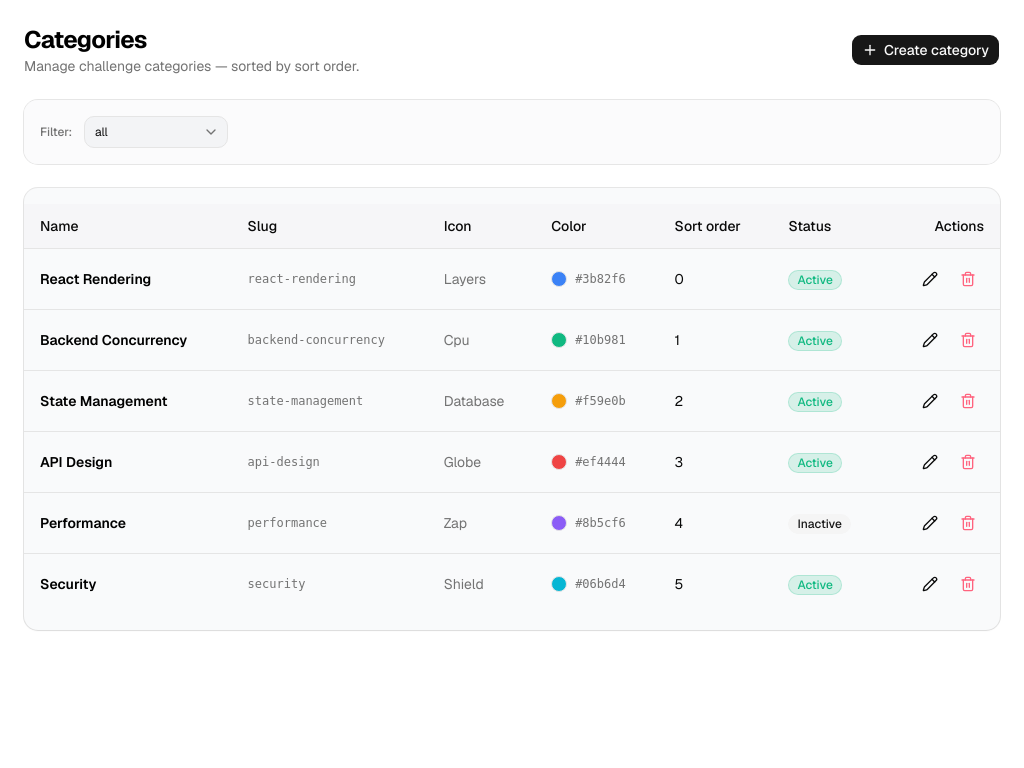
Test: CategoryManagement › create dialog validates hex color inline
Click the button "Create category" at (925, 50), box [851,34,1000,66]
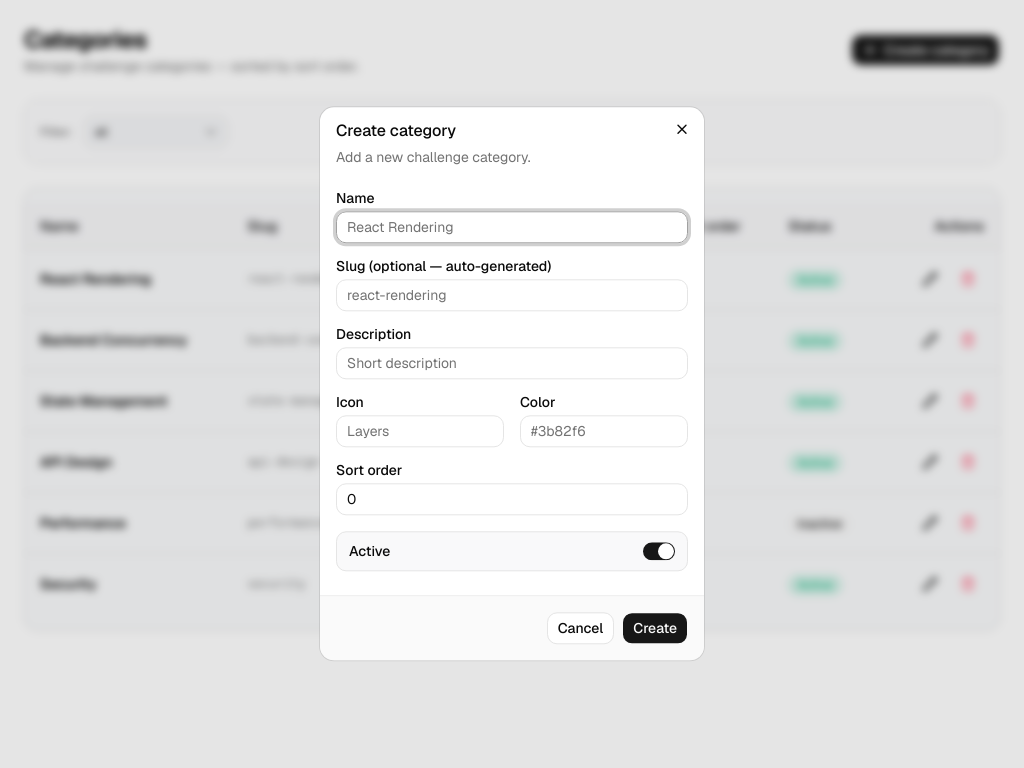
Result: the field labelled "Name" is shown
Type "Valid Name" into the field labelled "Name" at (512, 227), box [336,211,688,243]
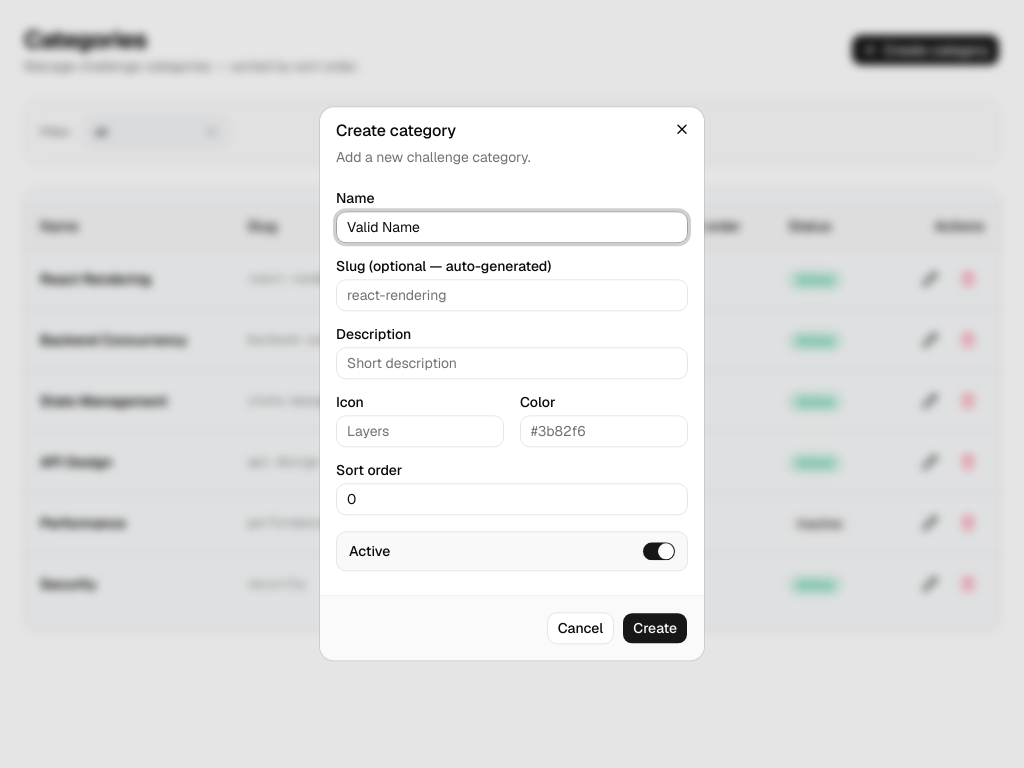
Type "not-a-color" into the field with id "create-color" at (604, 431), box [520,415,688,447]
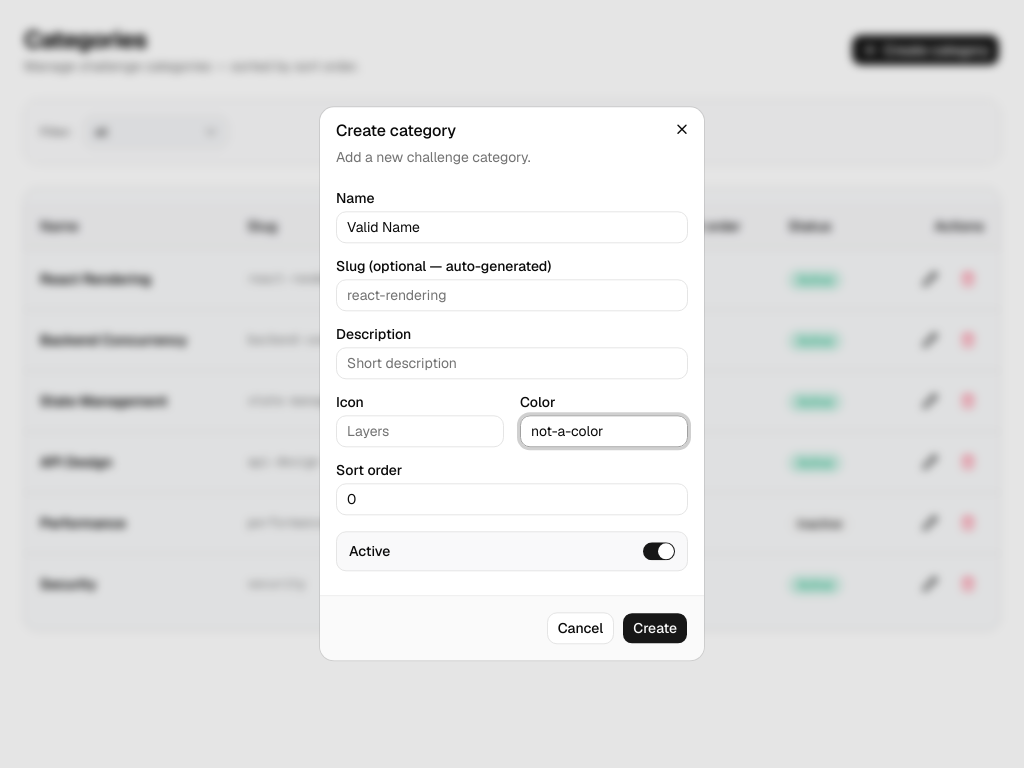
Click the button "Create" at (655, 629), box [622,613,688,645]
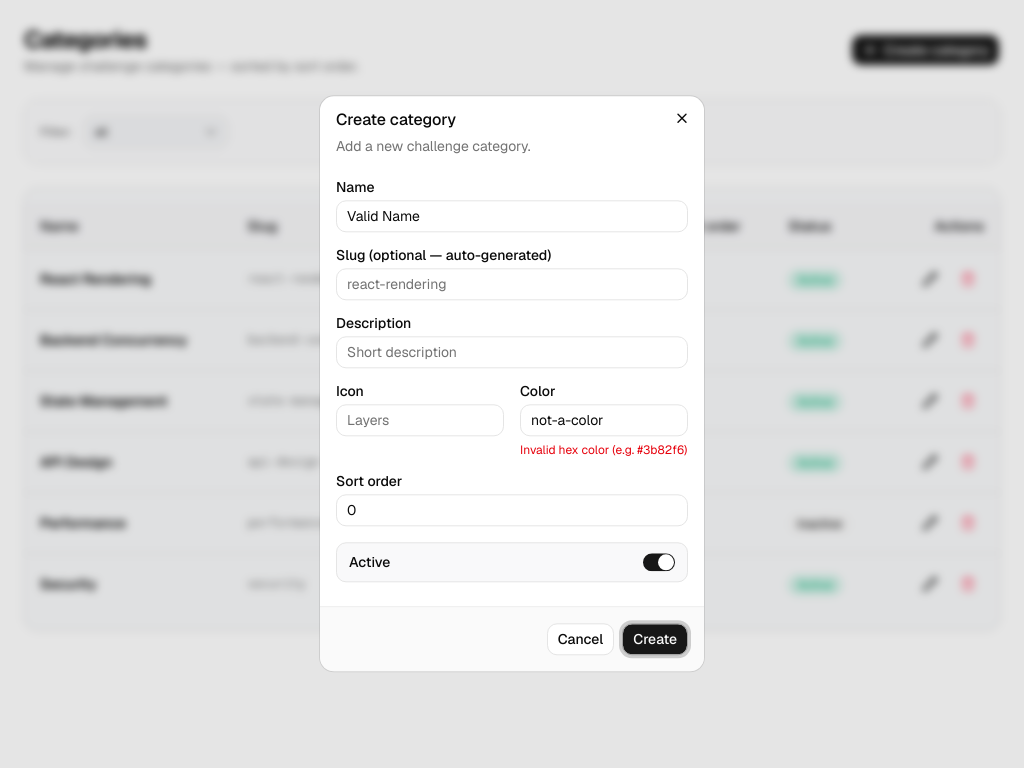
Result: the text "Invalid hex color (e.g. #3b82f6)" is shown at [520,442,688,458]
